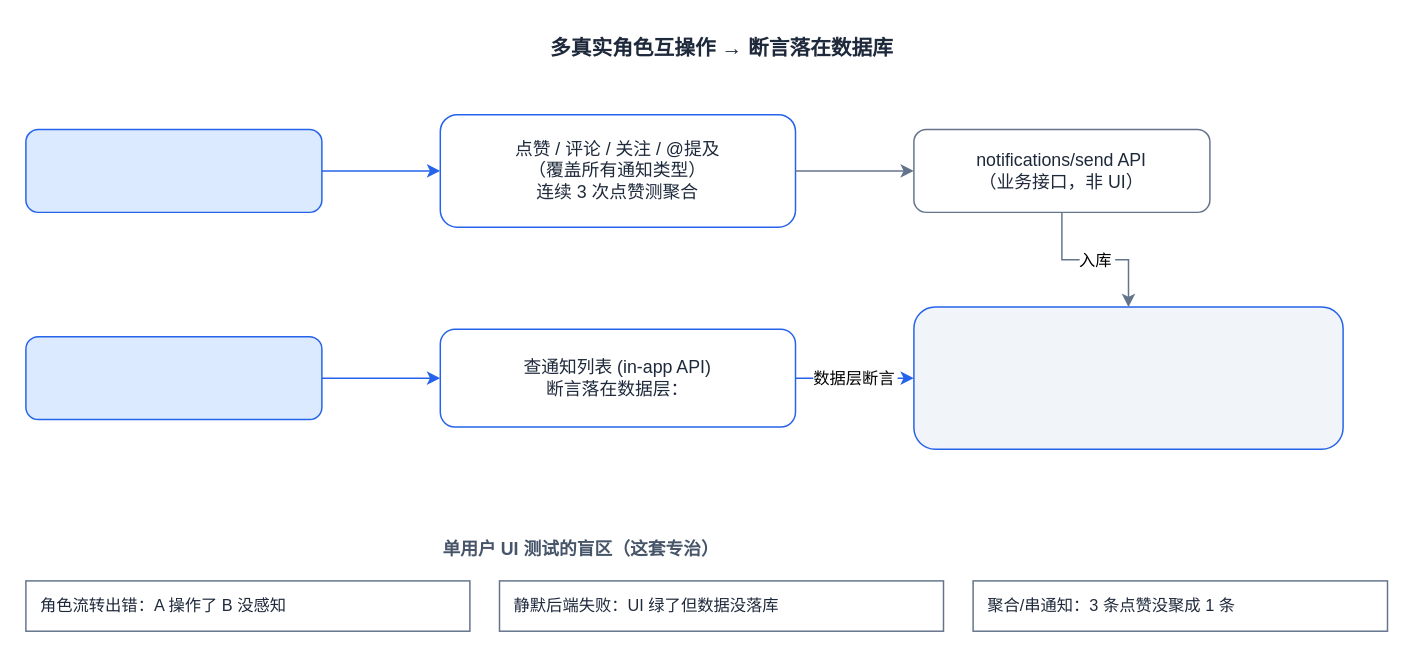
Some shapes in this 1413 by 657 pixel diagram are drawn without their labels. Here are the shapes that lost their labels. From the top down, the box of each, then its label:
(24, 128, 322, 212): 用户2 (CC) · 动作发起方 token: t2
(24, 335, 322, 420): 用户1 (小福天) · 感知方 token: t1
(912, 306, 1343, 449): ① 列表非空（通知真入库） ② 含互动通知（点赞/评论/关注通） ③ 含@提醒（POST_MENTION 通） ④ 聚合数正确（不串通知）
